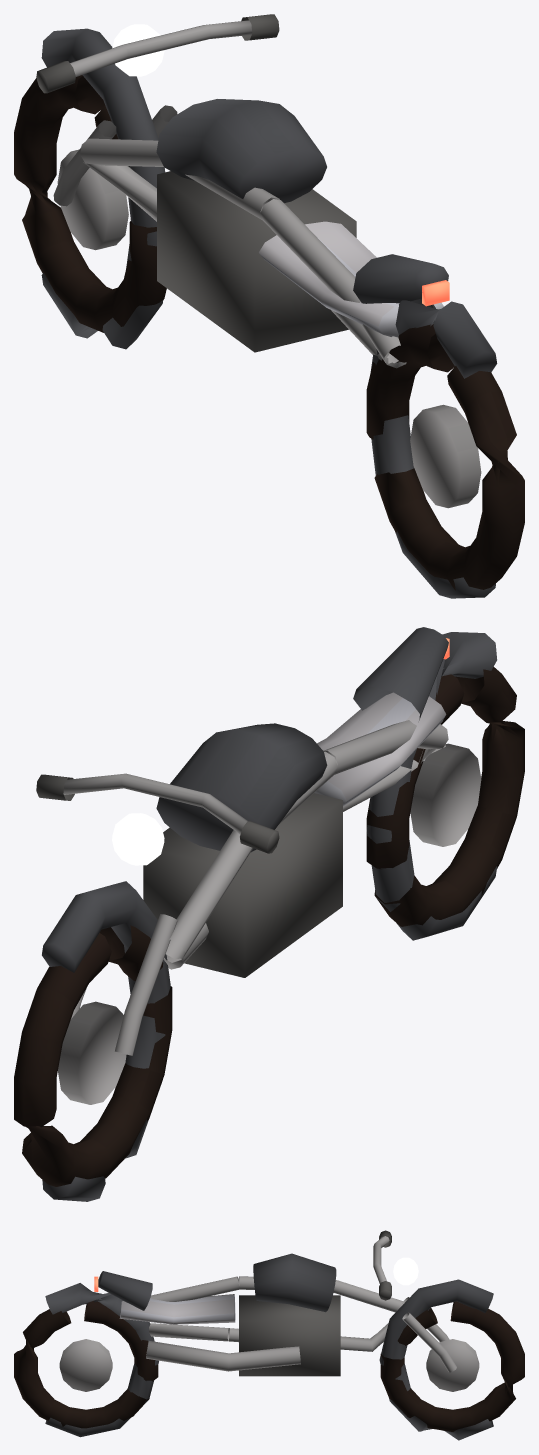
File: motorcycle.glb
3 renders of one model, top to bottom at view 1: azimuth 30°, elevation 25°; view 2: azimuth 150°, elevation 25°; view 3: azimuth 270°, elevation 25°, orthographic. The views are drawn at different scales.
Visible parts, largest first — view 1: Body, WheelR, WheelF; view 2: Body, WheelF, WheelR; view 3: Body, WheelR, WheelF.
Part boxes in pixels (x1,y1,x2,y2): Body: [36, 14, 497, 598]; WheelR: [366, 324, 524, 590]; WheelF: [14, 75, 166, 332]; Body: [36, 627, 497, 1201]; WheelF: [14, 925, 172, 1186]; WheelR: [366, 667, 524, 926]; Body: [45, 1230, 493, 1440]; WheelR: [14, 1301, 158, 1428]; WheelF: [380, 1301, 524, 1431].
Bounding box in the file's own units: 0.6879 × 1.02 × 2.51.
7 materials, 5 textured.
